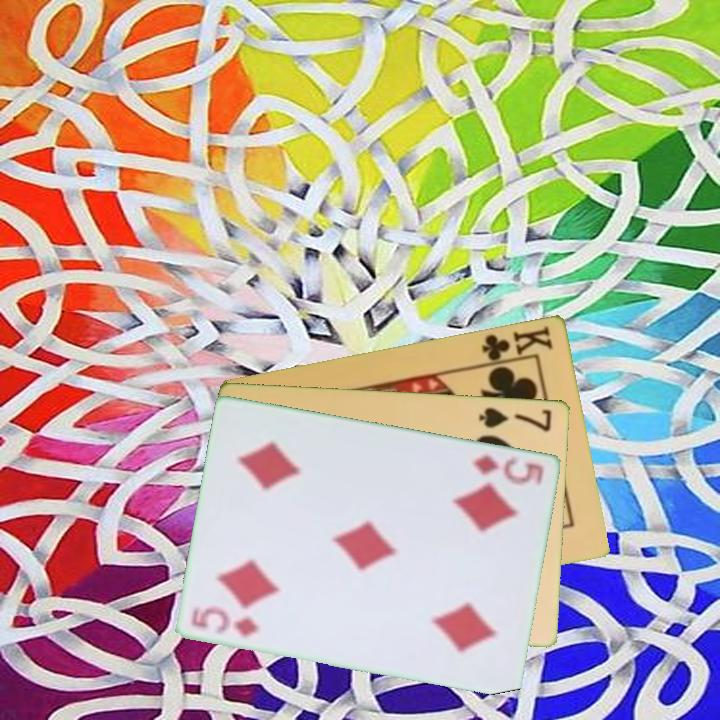5d: (469, 450, 547, 488), (187, 603, 263, 641)
7s: (476, 403, 555, 434)
Kc: (478, 322, 556, 367)
